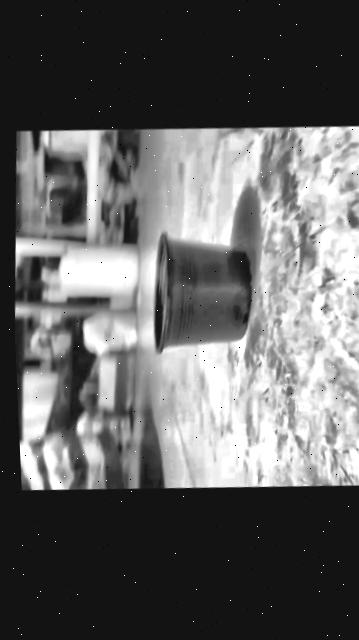pot: (146, 226, 255, 358)
